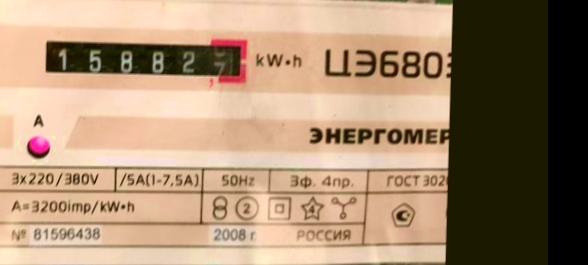1: (57, 45, 70, 71)
2: (181, 48, 198, 73)
5: (88, 46, 103, 73)
7: (212, 58, 228, 75)
8: (119, 47, 136, 73), (151, 48, 167, 74)
screen: (36, 28, 256, 91)
